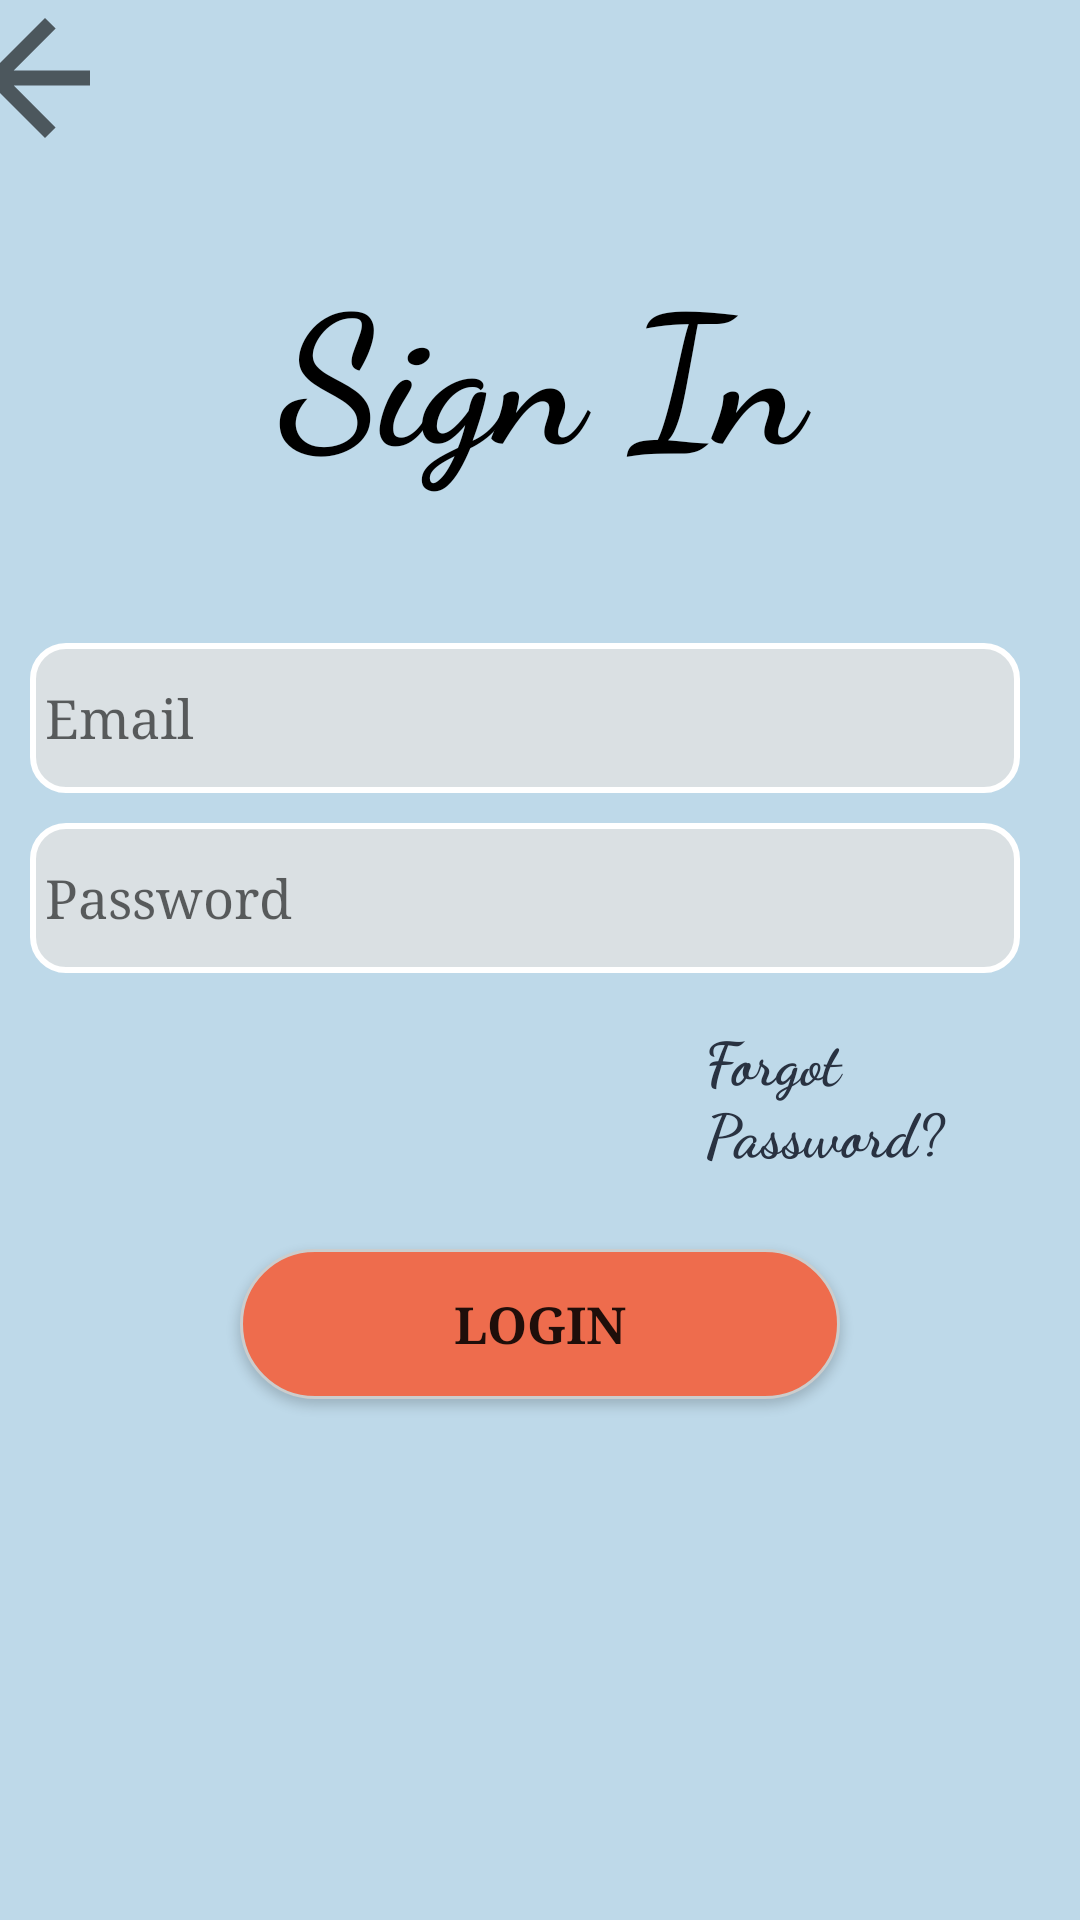

Where icons sit on this 1080*1920 app screen, as bbox(x1, y1, x2, y2):
arrow back: bbox(0, 18, 90, 138)
